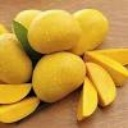mango: (31, 51, 87, 104)
